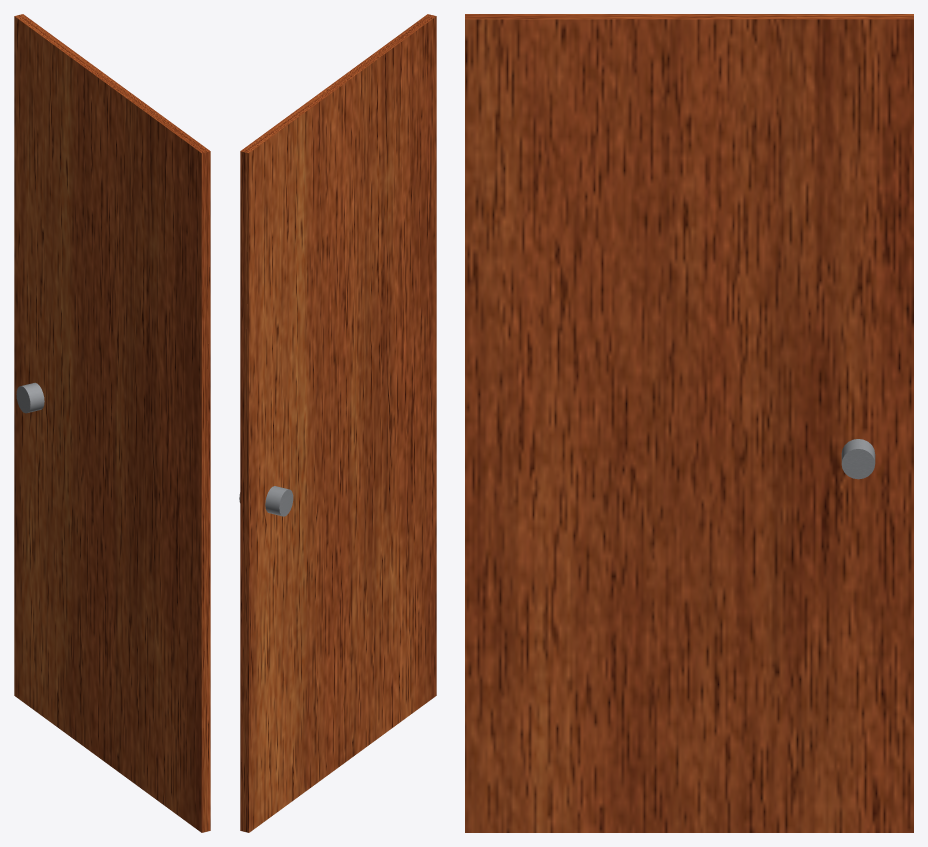
Rendered from Butcher Door.fbx.
3 views of the same model, side by side, from view 1: azimuth 30°, elevation 25°; view 2: azimuth 150°, elevation 25°; view 3: azimuth 270°, elevation 25° (orthographic). The views are drawn at different scales.
Visible parts, largest first — view 1: Butcher_Door; view 2: Butcher_Door; view 3: Butcher_Door.
Boxes of the visible parts, x1,y1,x2,y2 form: Butcher_Door: (14, 14, 210, 832); Butcher_Door: (239, 14, 436, 832); Butcher_Door: (465, 14, 913, 832).
Bounding box in the file's own units: 2.43 × 39.4 × 19.7.
Materials: 1 (1 with a texture image).
